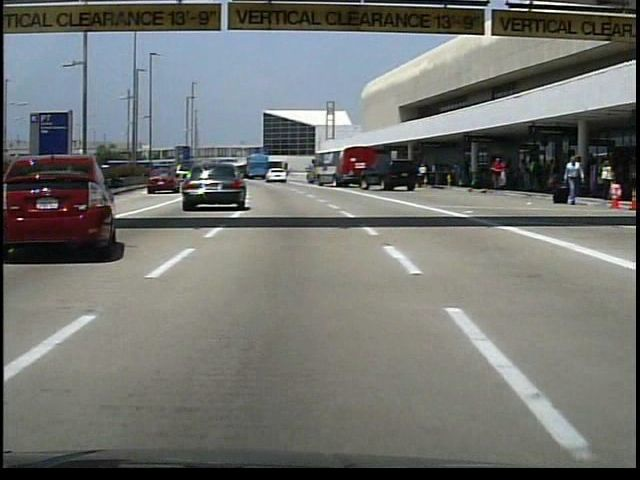person: (558, 151, 584, 204), (489, 154, 508, 190), (527, 153, 542, 190), (462, 157, 473, 187), (417, 163, 429, 189)
